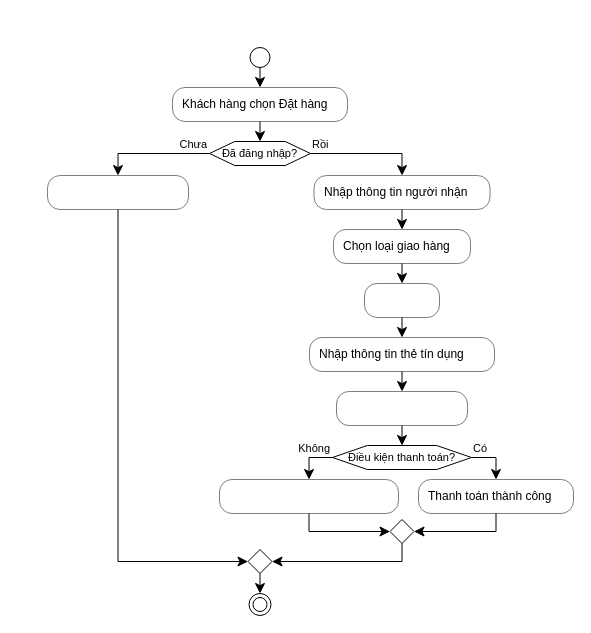
The diagram is 591 pixels wide and 633 high, and some of its shapes have lost their labels. Each missing label, with the box of its shape:
Ghi nhận đơn hàng thất bại: (219, 479, 398, 513)
Tính tiền: (364, 283, 439, 317)
Xác nhận đơn hàng: (336, 391, 467, 425)
Đăng nhập / Đăng ký: (47, 175, 188, 209)
